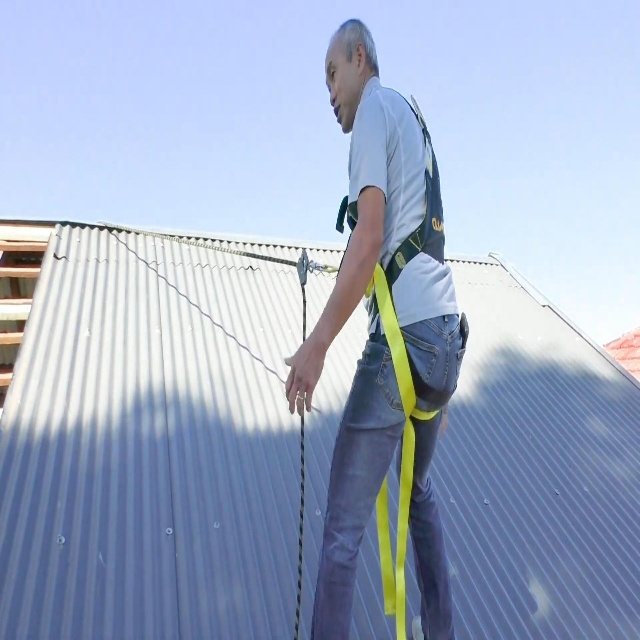Arnes_seguridad: (348, 81, 468, 640)
